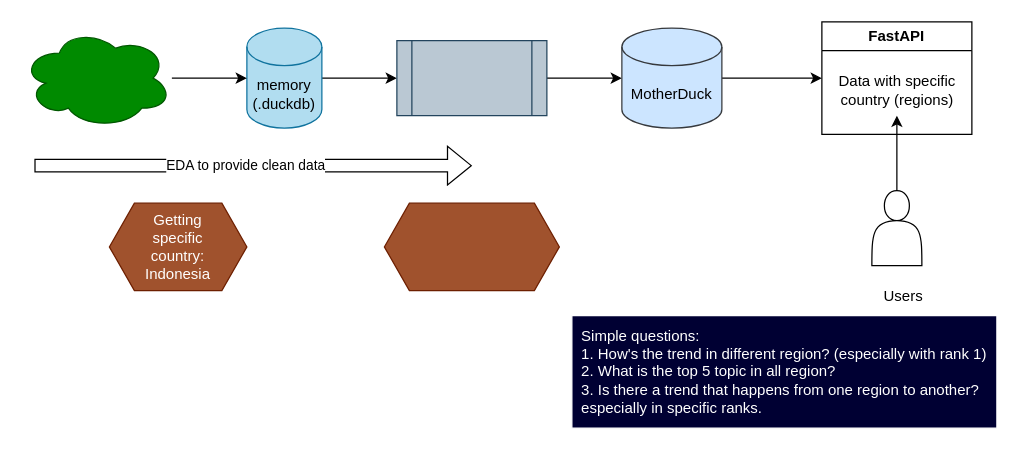
This 1019x450 diagram has some shape labels left out. The centre of each missing label's shape, as x and y in pixels:
"Data cleaning and filtering" belongs at point (471, 77).
"Dropping missing values and filter specific area" belongs at point (471, 246).
"Google BigQuery" belongs at point (96, 77).
